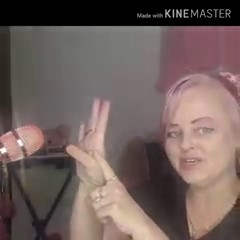Y: (61, 92, 142, 235)
